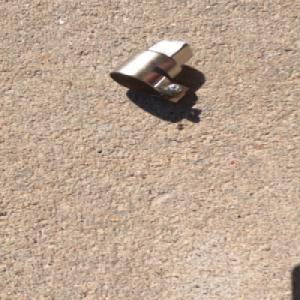MetalPart: (108, 39, 194, 103)
